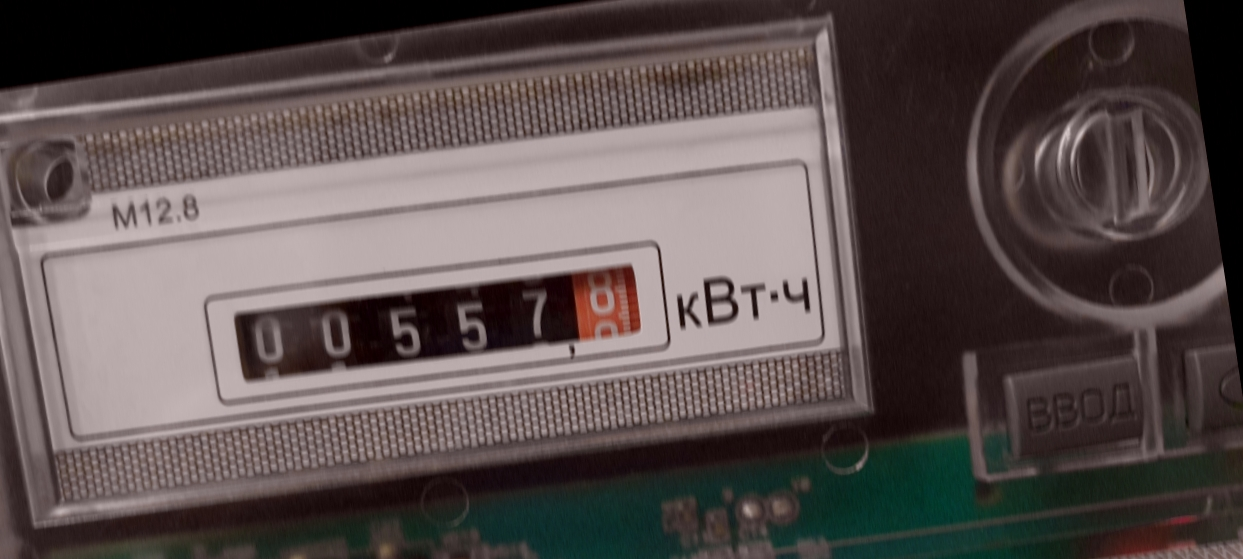0: (245, 308, 287, 369), (313, 304, 354, 360)
5: (447, 292, 493, 356), (382, 300, 424, 361)
7: (512, 283, 553, 342)
8: (581, 266, 616, 319)
screen: (195, 221, 677, 420)
